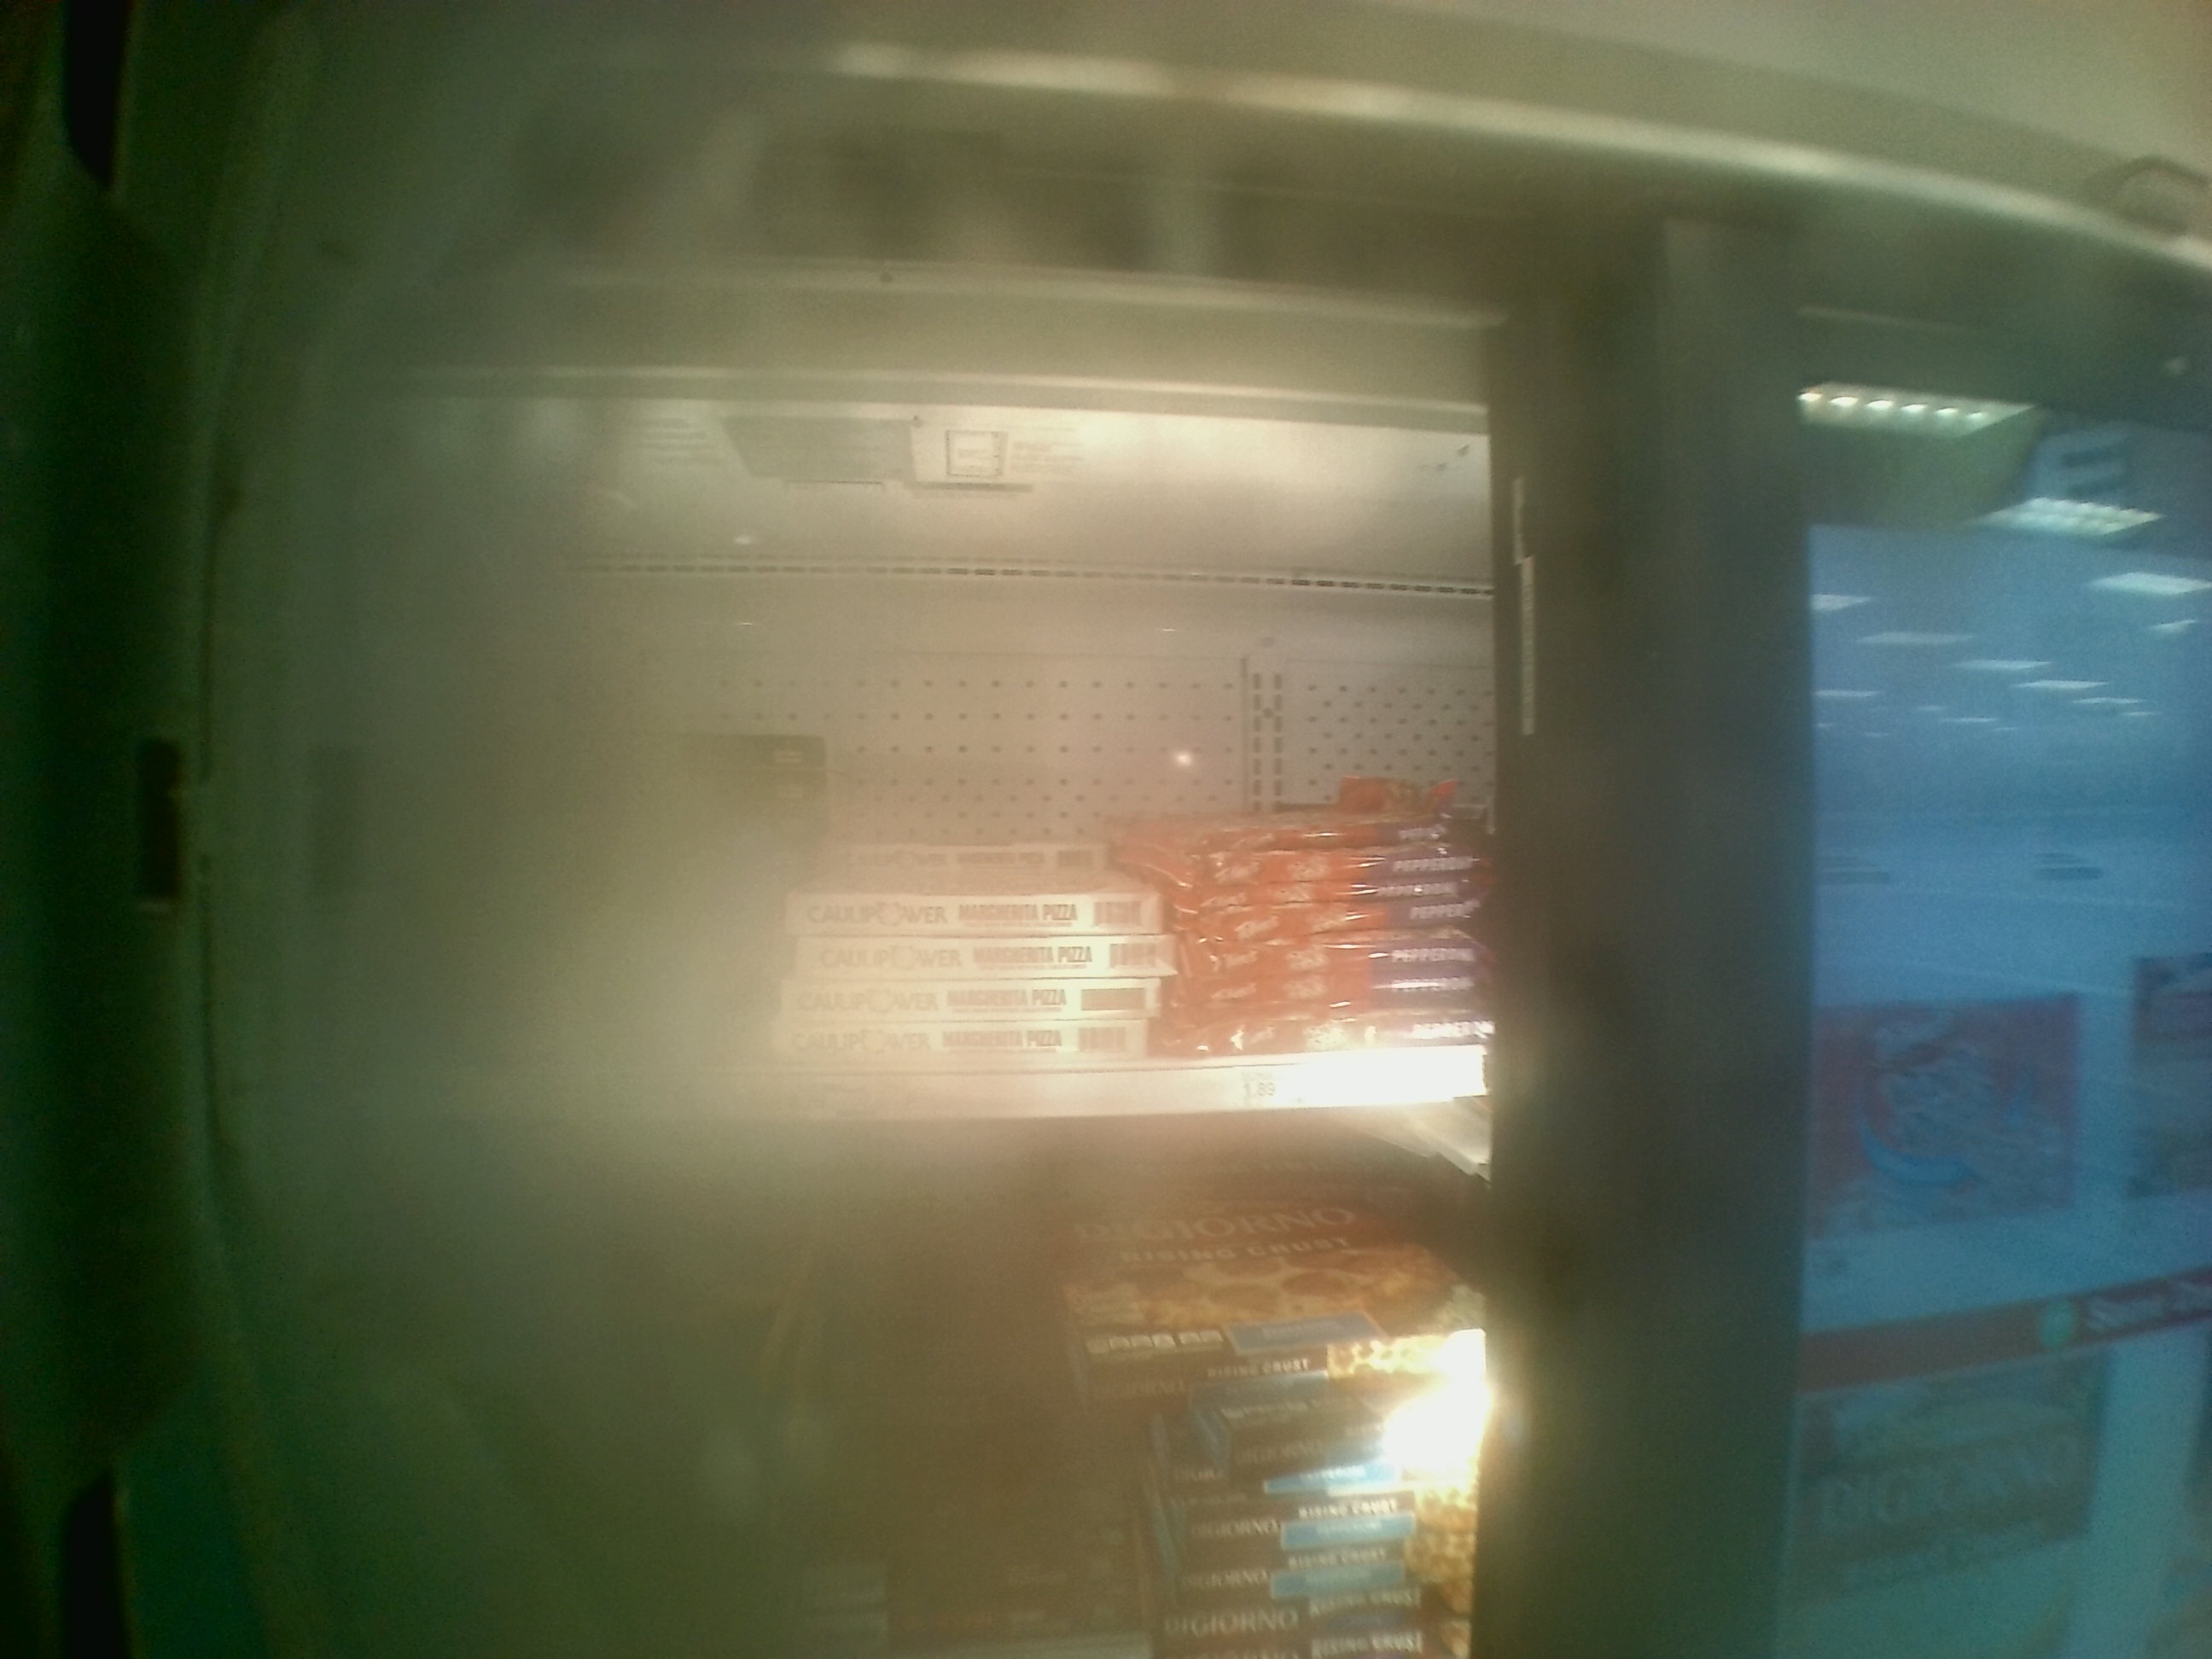pizza: (1057, 1140, 1467, 1321), (1179, 1398, 1467, 1466), (1097, 1347, 1489, 1387), (796, 988, 1155, 1025), (810, 934, 1160, 971), (1174, 1601, 1467, 1642), (813, 1028, 1129, 1060), (808, 904, 1163, 929), (1188, 1511, 1425, 1547)
